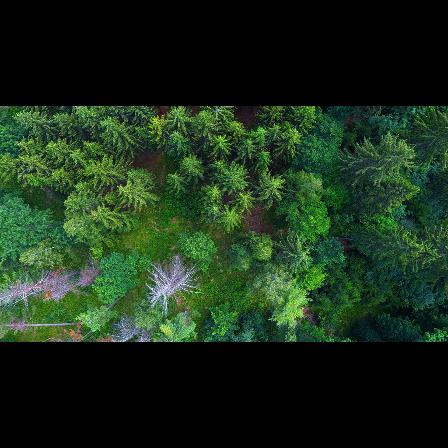Dead: (140, 253, 202, 312), (0, 272, 100, 306), (109, 316, 147, 342)
